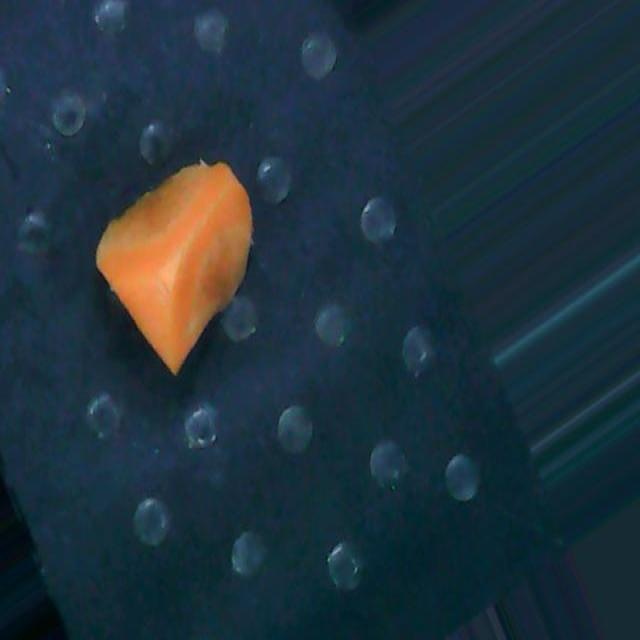-Kitchen waste - carrot-: (94, 153, 256, 374)
